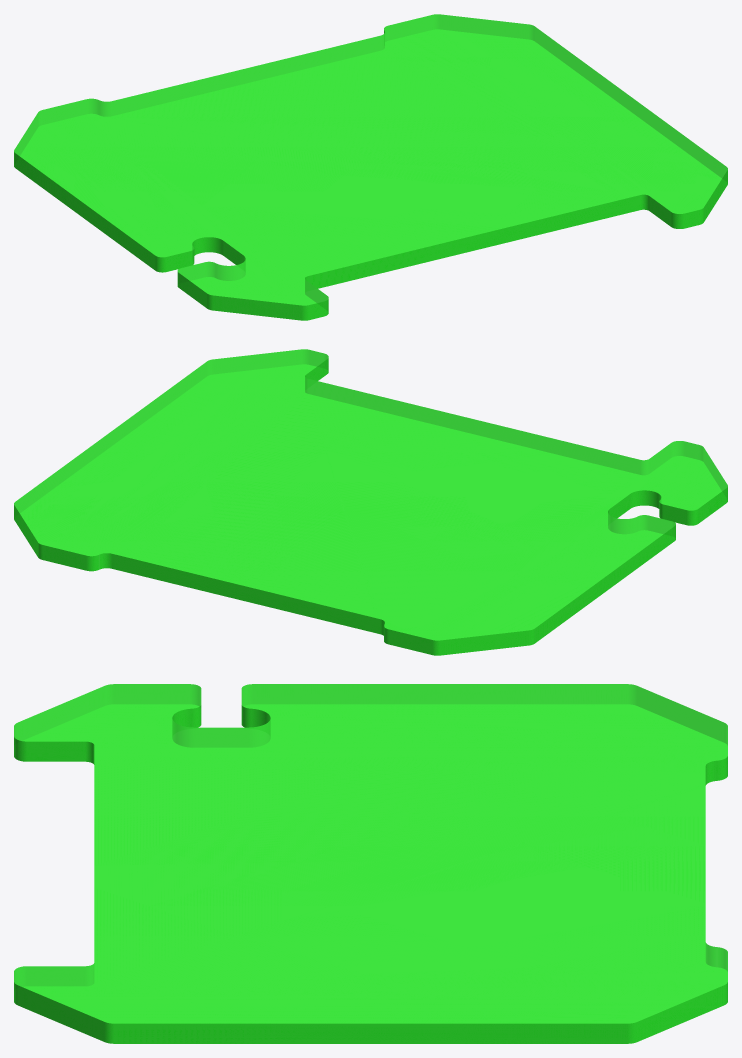
Rendered from platform_top.dae.
3 renders of one model, top to bottom at view 1: azimuth 30°, elevation 25°; view 2: azimuth 150°, elevation 25°; view 3: azimuth 270°, elevation 25°, orthographic. The views are drawn at different scales.
Visible parts, largest first — view 1: SketchUp (×2); view 2: SketchUp (×2); view 3: SketchUp (×2).
Boxes of the visible parts, bbox=[...] form: SketchUp (×2): bbox=[14, 14, 727, 320]; SketchUp (×2): bbox=[14, 349, 727, 655]; SketchUp (×2): bbox=[14, 684, 727, 1043].
Bounding box in the file's own units: 7.09 × 6.3 × 0.1969.
